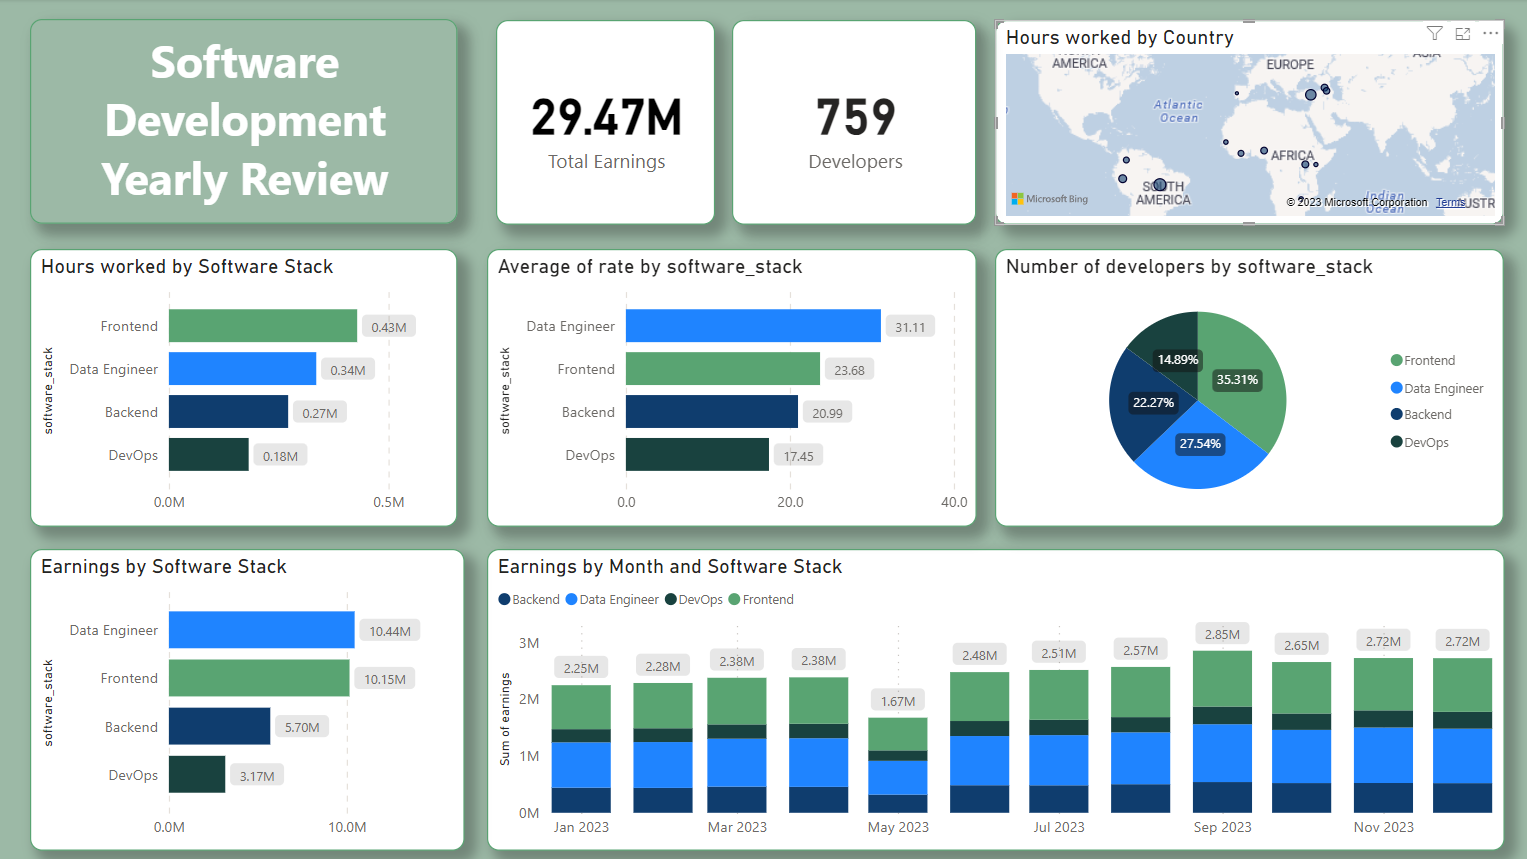

The dashboard page shown, as its layout file describes it:
{"tool":"powerbi","page":{"name":"Yearly report","canvas":[1280,720],"ordinal":0},"visuals":[{"type":"barChart","title":"Hours worked by Software Stack","fields":{"Category":["developer_records. software_stack"],"Y":["developer_records. hours_worked"]},"box":[25.9,208.8,357.1,231.8],"z":0},{"type":"columnChart","title":"Earnings by Month and  Software Stack","fields":{"Y":["developer_records.earnings"],"Series":["developer_records. software_stack"],"Category":["developer_records. date.Variation.Date Hierarchy.Month"]},"box":[407.5,459.4,849.6,252],"z":1000},{"type":"map","title":"Hours worked by  Country","fields":{"Category":["developer_records. country"],"Size":["developer_records. hours_worked"]},"box":[832.3,17.3,424.8,171.4],"z":2000},{"type":"card","title":"Earnings","fields":{"Values":["developer_records.earnings"]},"box":[414.7,17.3,182.9,171.4],"z":3000},{"type":"barChart","title":"Earnings by Software Stack","fields":{"Category":["developer_records. software_stack"],"Y":["developer_records.earnings"]},"box":[25.9,459.4,362.9,252],"z":4000},{"type":"card","fields":{"Values":["developer_records.developer_name"]},"box":[612,17.3,204.5,171.4],"z":5000},{"type":"barChart","fields":{"Category":["developer_records. software_stack"],"Y":["developer_records. rate"]},"box":[407.5,208.8,409,231.8],"z":6000},{"type":"pieChart","fields":{"Category":["developer_records. software_stack"],"Y":["developer_records.developer_name"]},"box":[832.3,208.8,424.8,231.8],"z":7000},{"type":"textbox","box":[26,17,357,171],"z":8000},{"type":"barChart","fields":{"Category":["developer_records. software_stack"],"Y":["developer_records. rate"]},"box":[407.9,208.4,408.8,231.4],"z":9000}]}

Visuals, with their boxes in screenshot pixels (x1, y1, x2, y2), scaled from the page's 1280x720 canvas onto the 1527x859 screenshot:
"Hours worked by Software Stack" barChart: bbox=(31, 249, 457, 526)
"Earnings by Month and  Software Stack" columnChart: bbox=(486, 548, 1500, 849)
"Hours worked by  Country" map: bbox=(993, 21, 1500, 225)
"Earnings" card: bbox=(495, 21, 713, 225)
"Earnings by Software Stack" barChart: bbox=(31, 548, 464, 849)
card - developer_records.developer_name: bbox=(730, 21, 974, 225)
barChart - developer_records. software_stack x developer_records. rate: bbox=(486, 249, 974, 526)
pieChart - developer_records. software_stack x developer_records.developer_name: bbox=(993, 249, 1500, 526)
textbox: bbox=(31, 20, 457, 224)
barChart - developer_records. software_stack x developer_records. rate: bbox=(487, 249, 974, 525)
